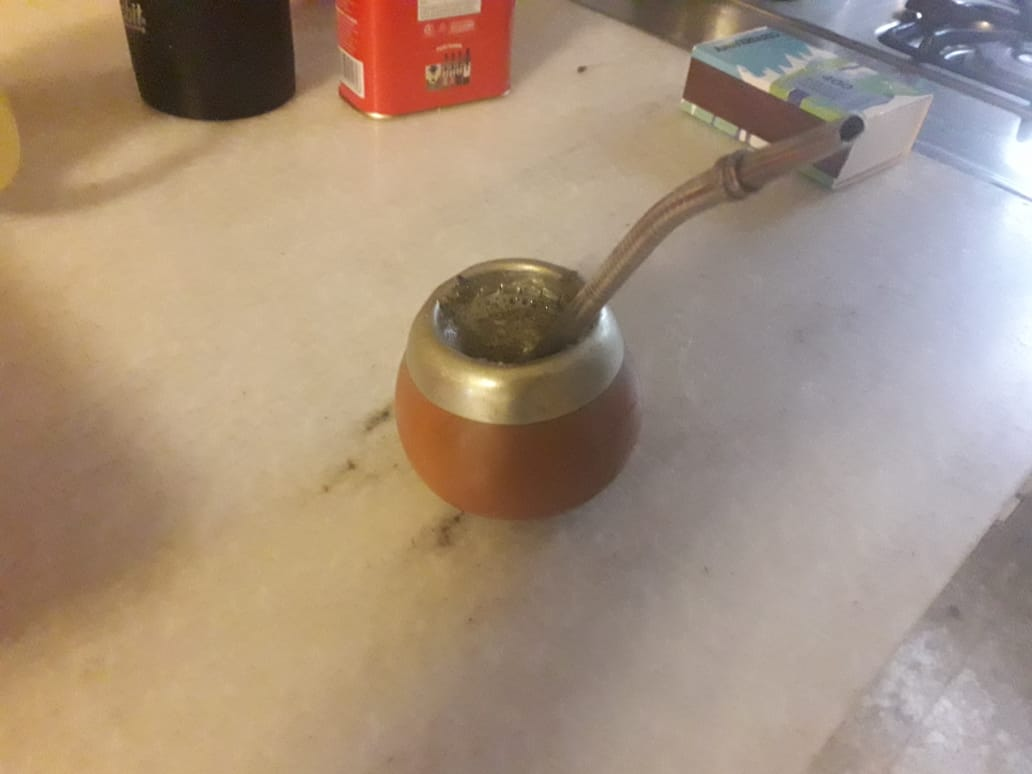calabaza: (386, 109, 870, 522)
mate: (388, 111, 872, 524)
